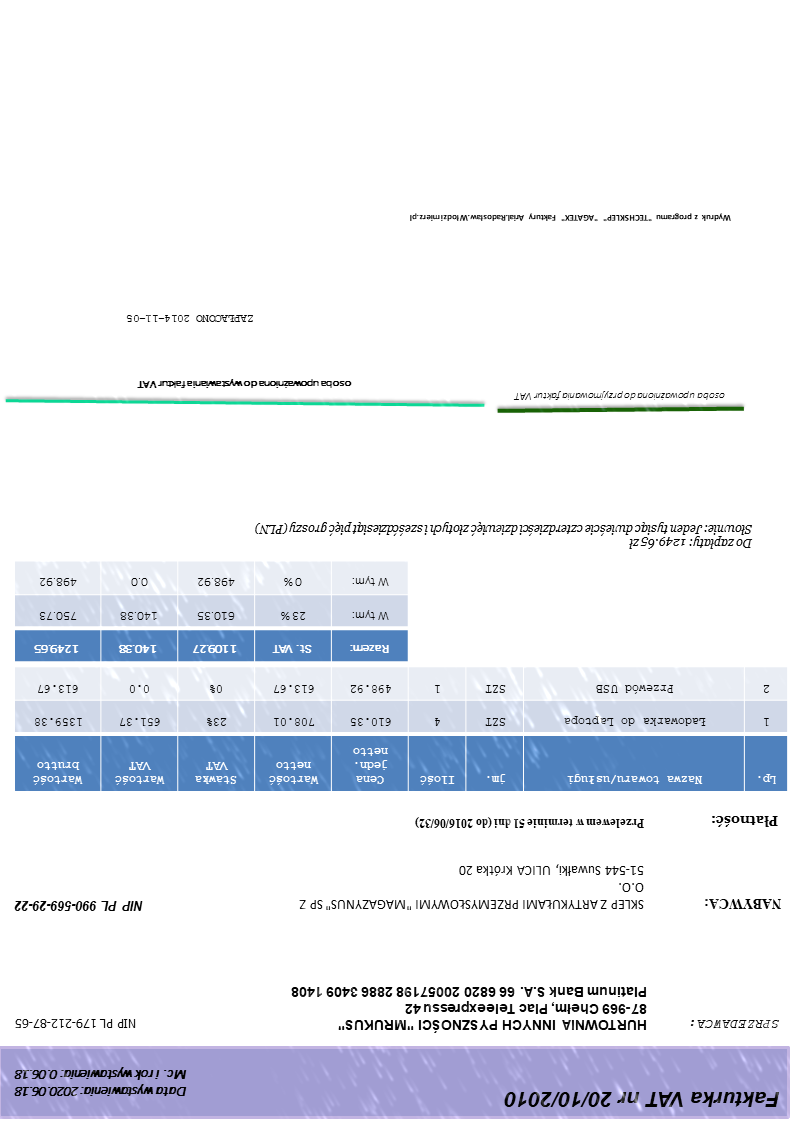Table: (14, 665, 790, 794), (14, 560, 410, 664)
TextBox: (288, 981, 650, 1036), (299, 862, 645, 913), (252, 519, 756, 553), (502, 1087, 783, 1111), (8, 1067, 191, 1101), (405, 211, 734, 226), (414, 815, 647, 832), (512, 388, 728, 404), (136, 377, 356, 392), (14, 897, 145, 916), (15, 1015, 141, 1034), (125, 312, 256, 326), (688, 1017, 784, 1033), (703, 896, 784, 913), (710, 813, 779, 831)
